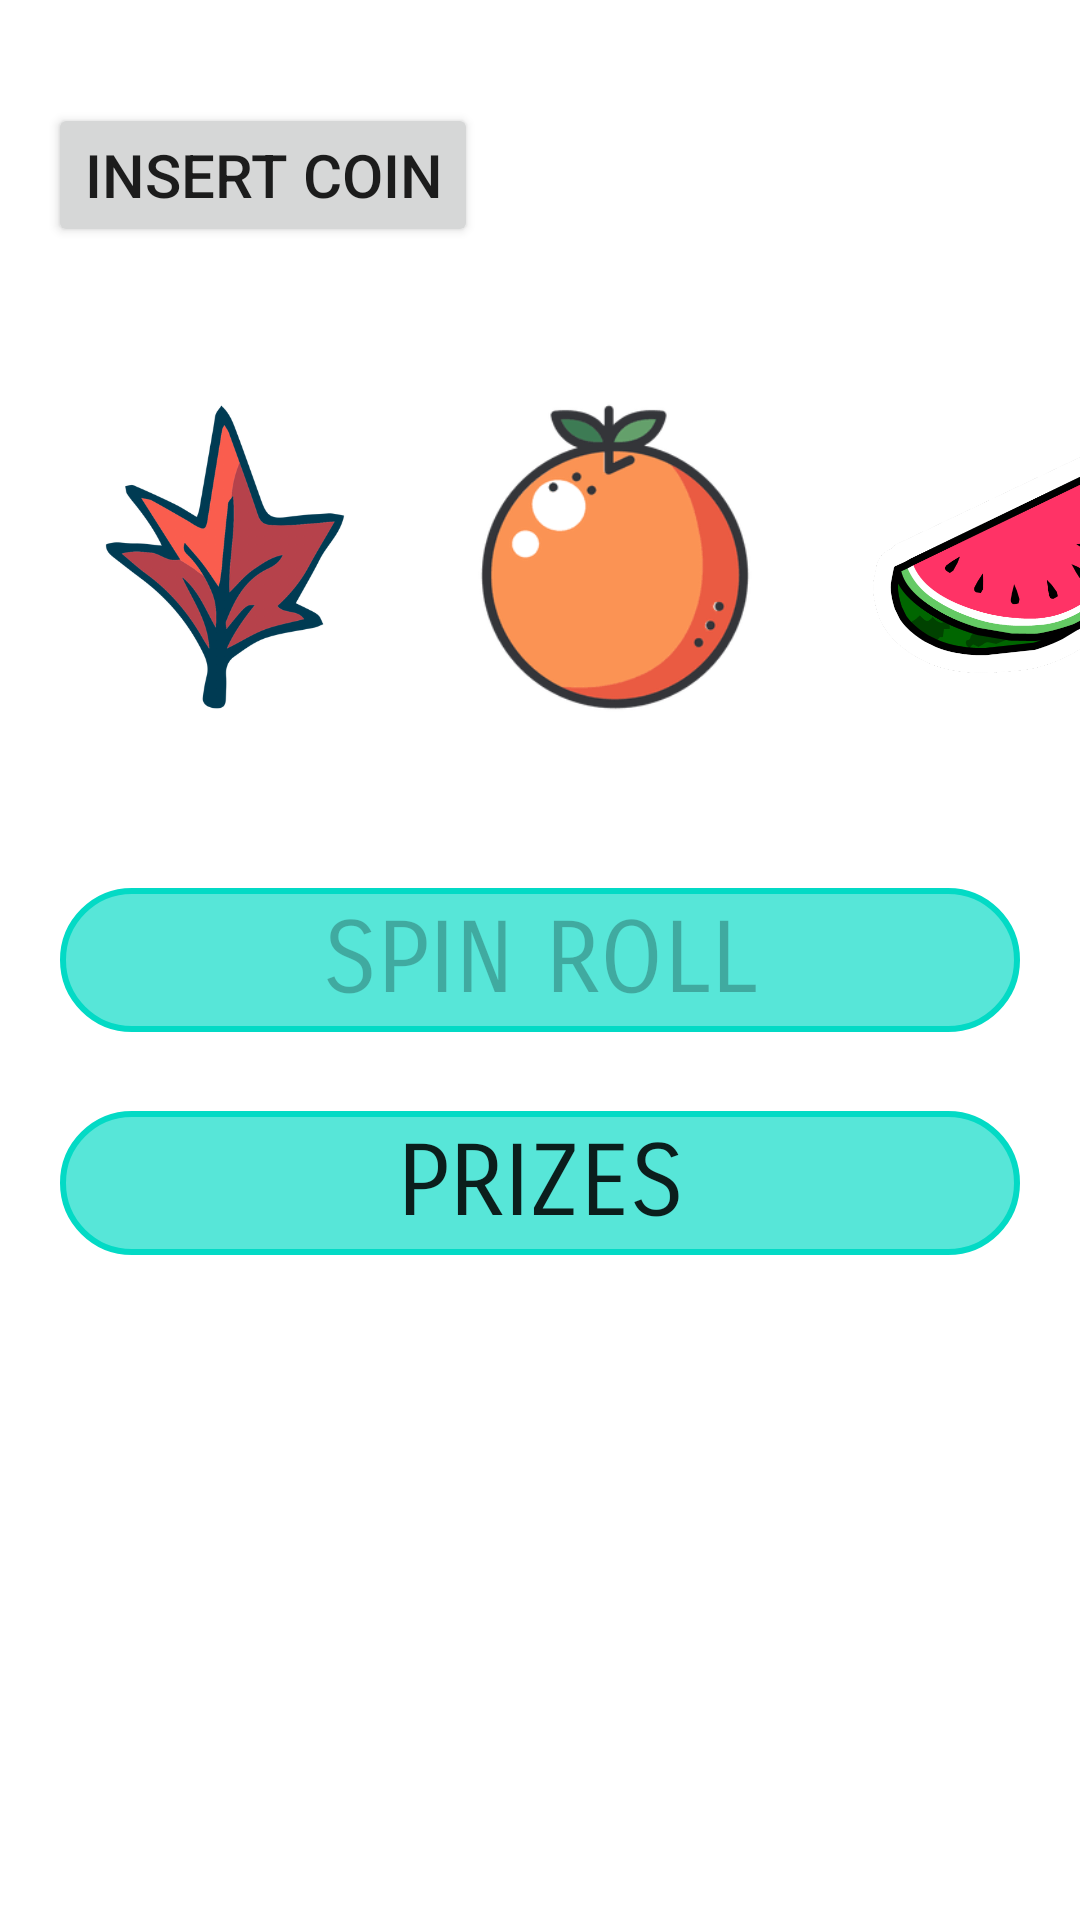

Icon bounding boxes for this 1080*1920 phone screenshot, format box(x1, y1, x2, y2):
hoja: box(106, 405, 344, 709)
naranja: box(481, 405, 749, 709)
